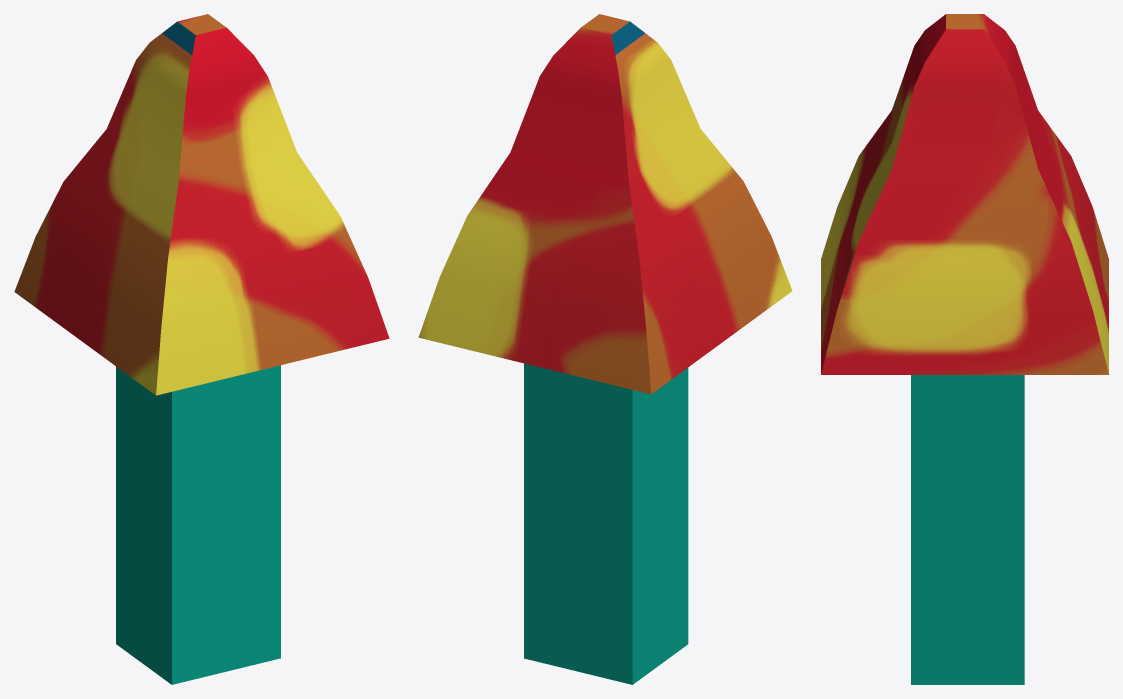
Rendered from Shroom 1.FBX.
The picture shows the model from 3 angles, left to right: view 1: azimuth 30°, elevation 25°; view 2: azimuth 150°, elevation 25°; view 3: azimuth 270°, elevation 25°; orthographic projection.
Parts seen in each view (by area): view 1: Shroom 1; view 2: Shroom 1; view 3: Shroom 1.
Boxes of the visible parts, x1,y1,x2,y2 form: Shroom 1: [14, 14, 389, 684]; Shroom 1: [418, 14, 792, 684]; Shroom 1: [821, 14, 1108, 684].
Size of the model in its own units: 143 by 366 by 150.
1 material, 1 textured.
